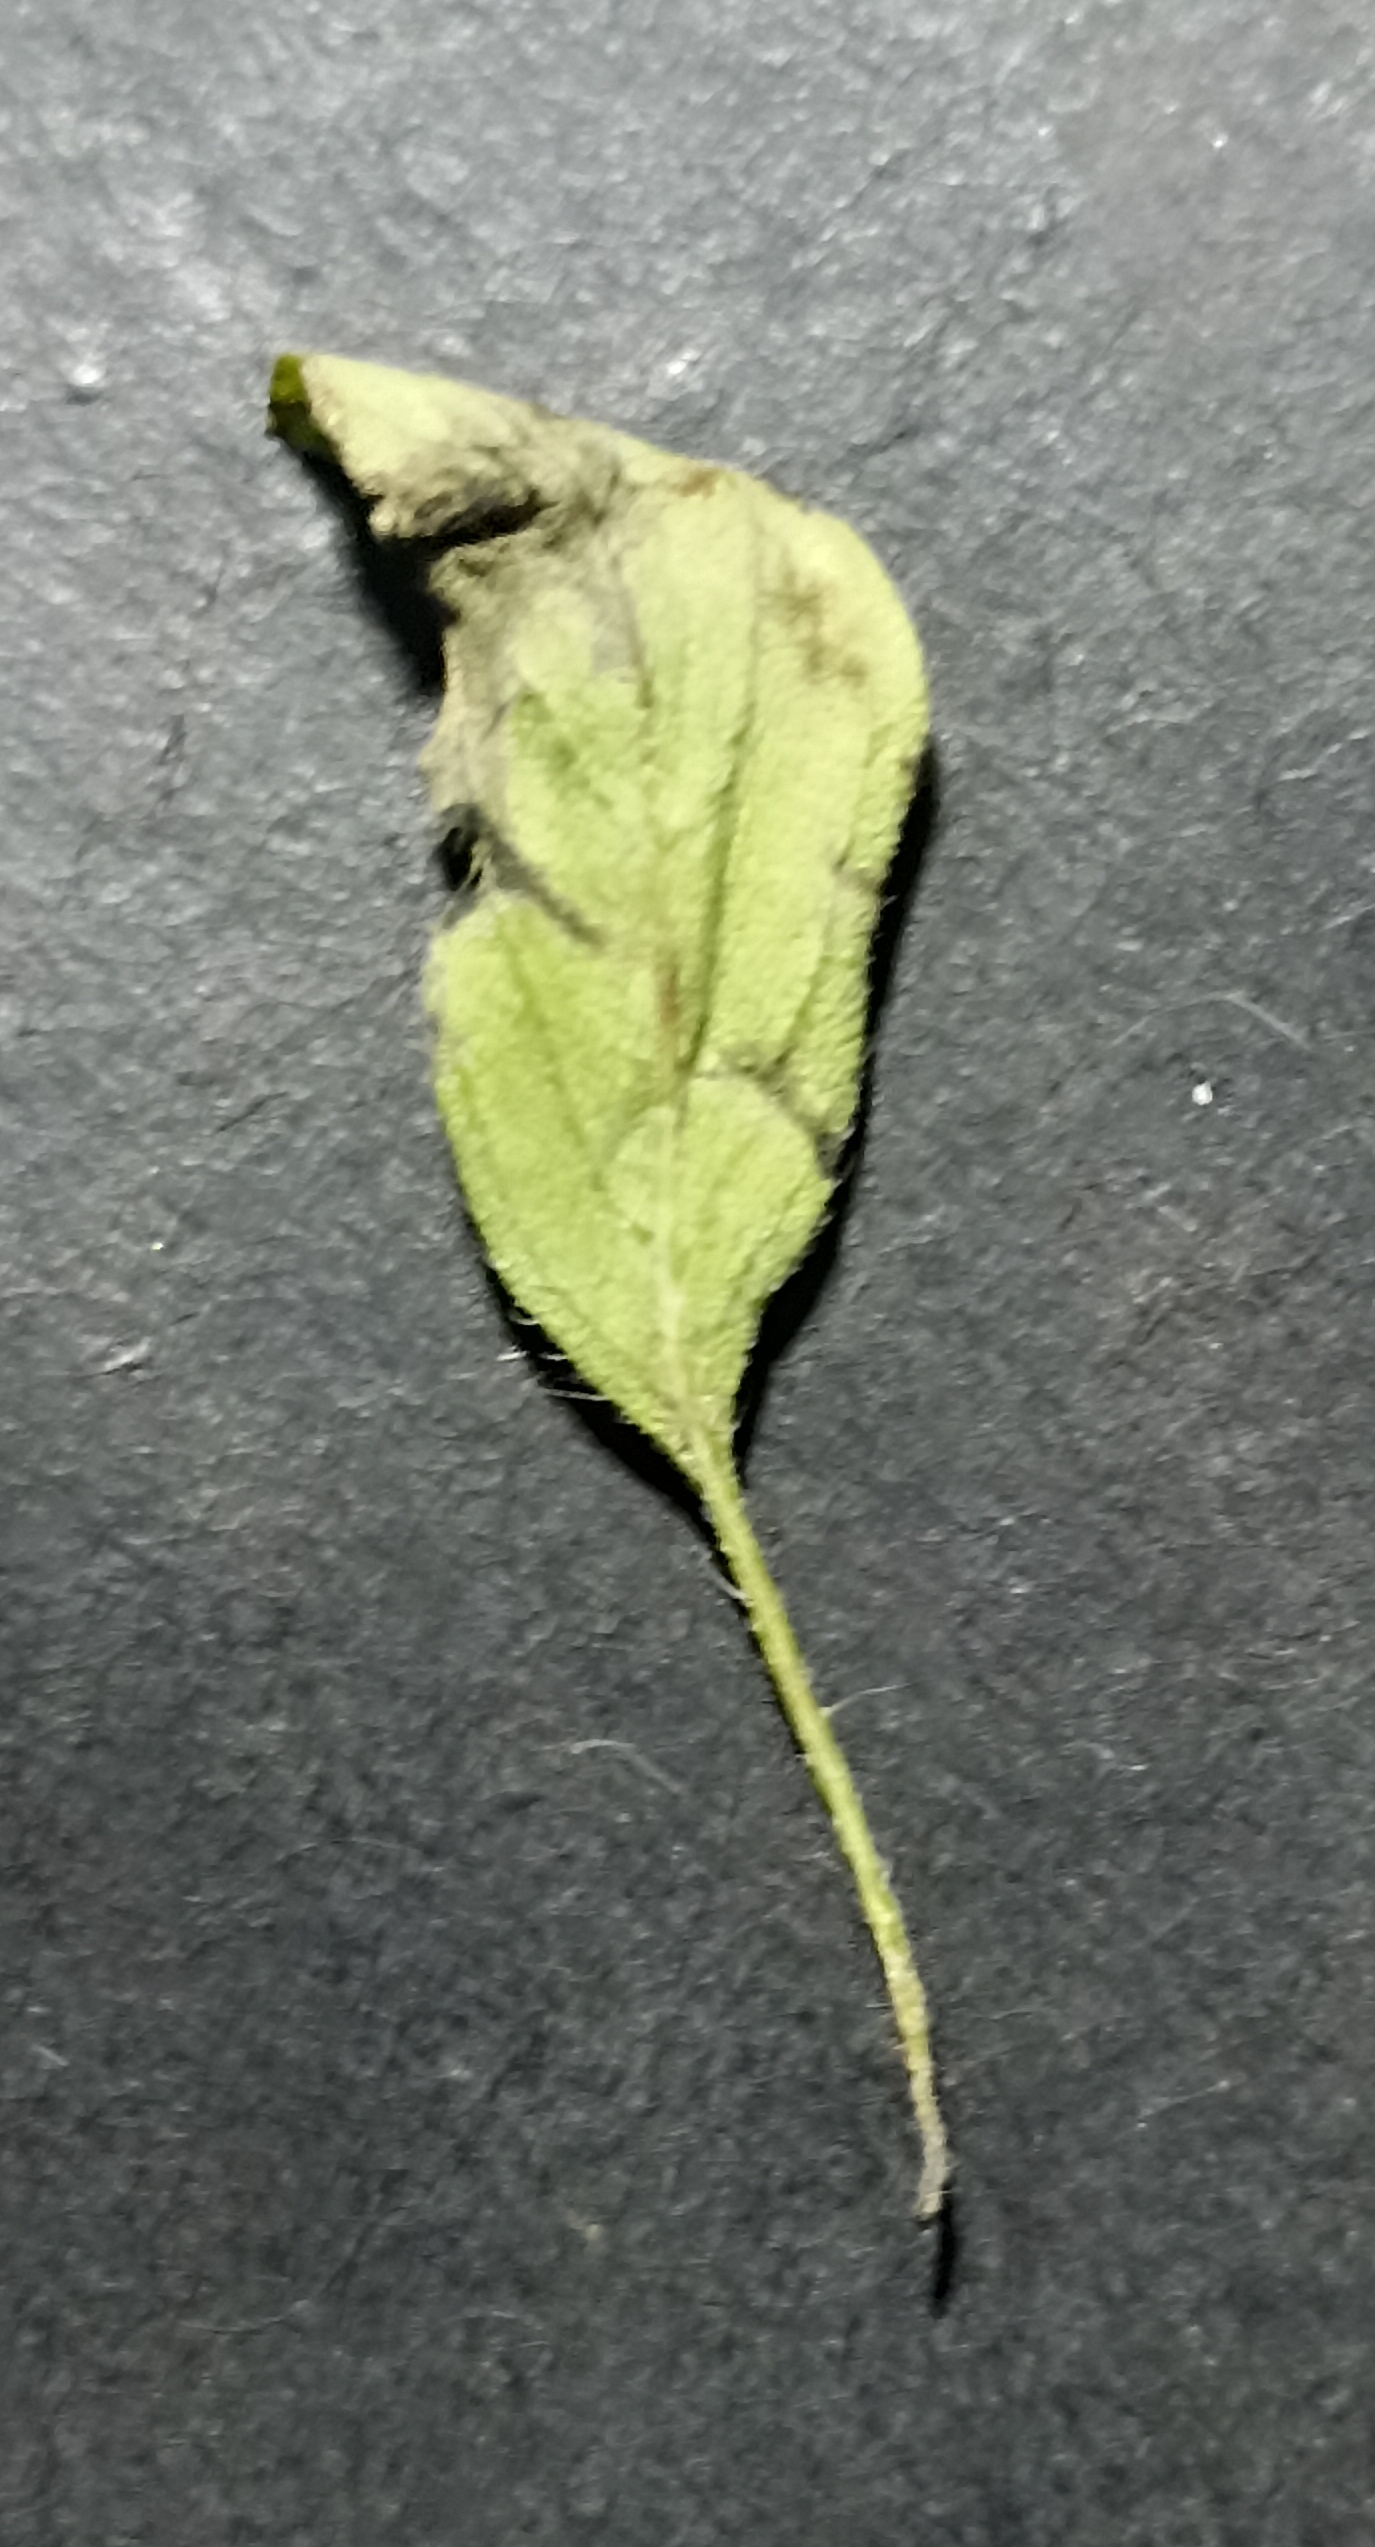Unhealthy: (251, 245, 970, 1521)
